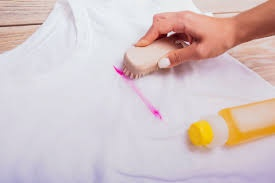lipstick: (147, 104, 163, 122), (115, 65, 128, 82), (134, 86, 142, 97)
